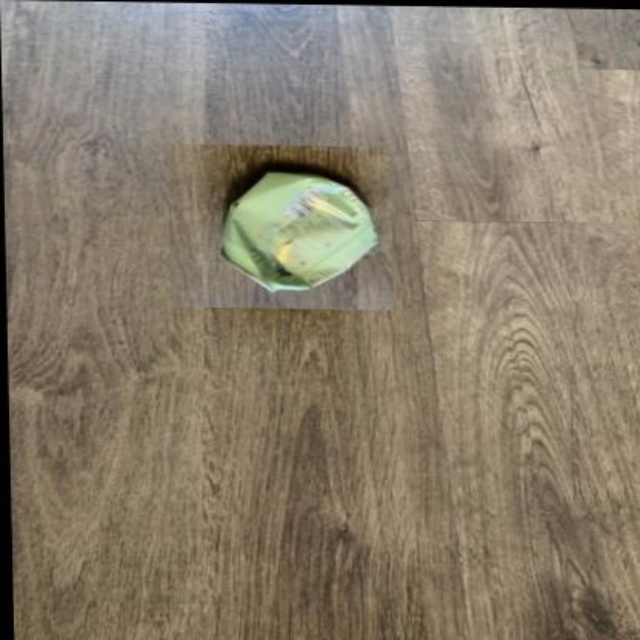trash: (222, 172, 375, 291)
